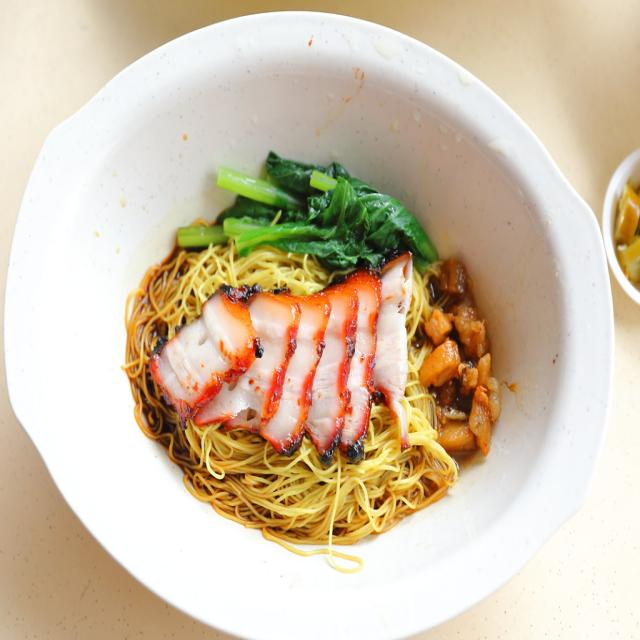Carbohydrate: (123, 223, 492, 565)
Noodle: (94, 57, 571, 595)
Protein: (148, 250, 416, 455), (423, 255, 501, 457)
Vegetable: (173, 149, 438, 277)
